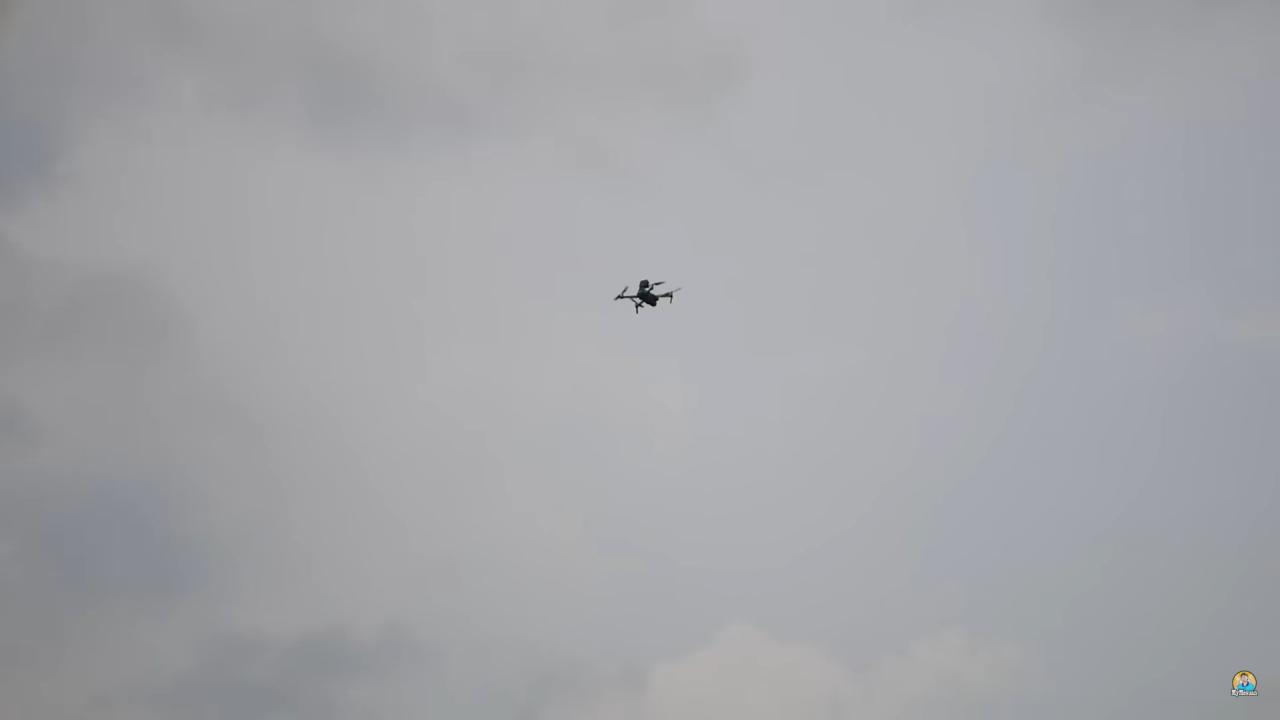Drone: (600, 262, 695, 326)
